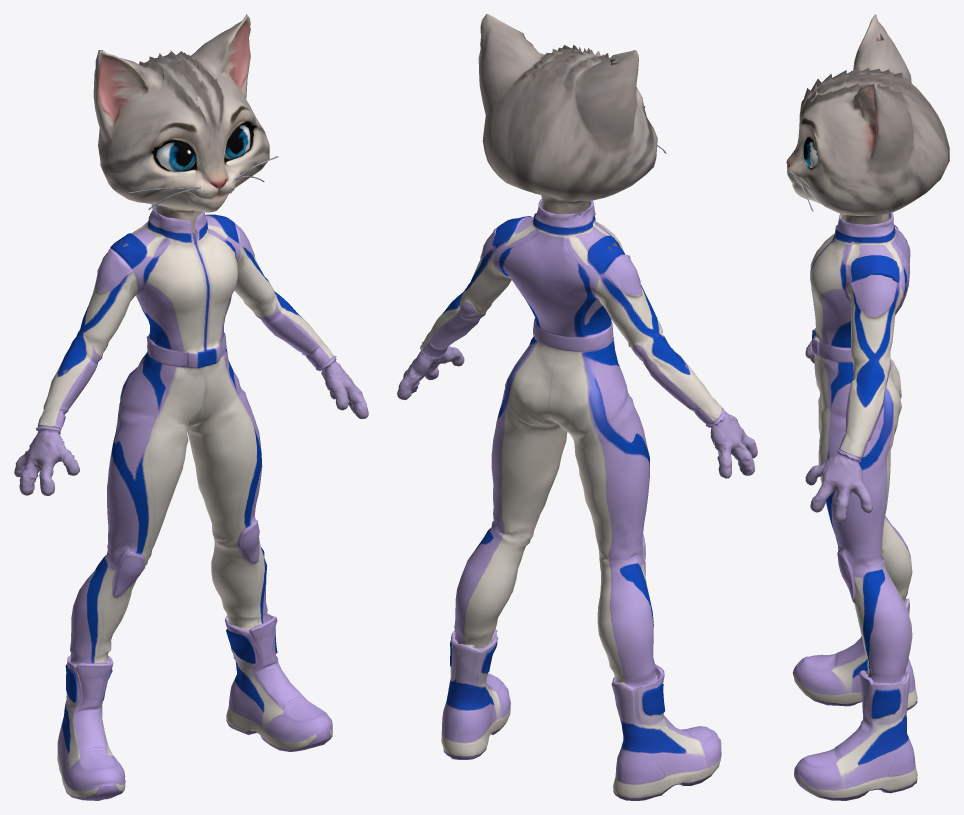
The model's file is cat.glb.
3 views of the same model, side by side, from view 1: azimuth 30°, elevation 25°; view 2: azimuth 150°, elevation 25°; view 3: azimuth 270°, elevation 25° (orthographic). The views are drawn at different scales.
Parts seen in each view (by area): view 1: geometry_0; view 2: geometry_0; view 3: geometry_0.
Part boxes in pixels (box(x1,y1,x2,y2)): geometry_0: box(14, 14, 368, 800); geometry_0: box(397, 14, 757, 800); geometry_0: box(786, 14, 949, 800).
Bounding box in the file's own units: 0.4722 × 0.9507 × 0.2017.
1 material, 1 textured.
